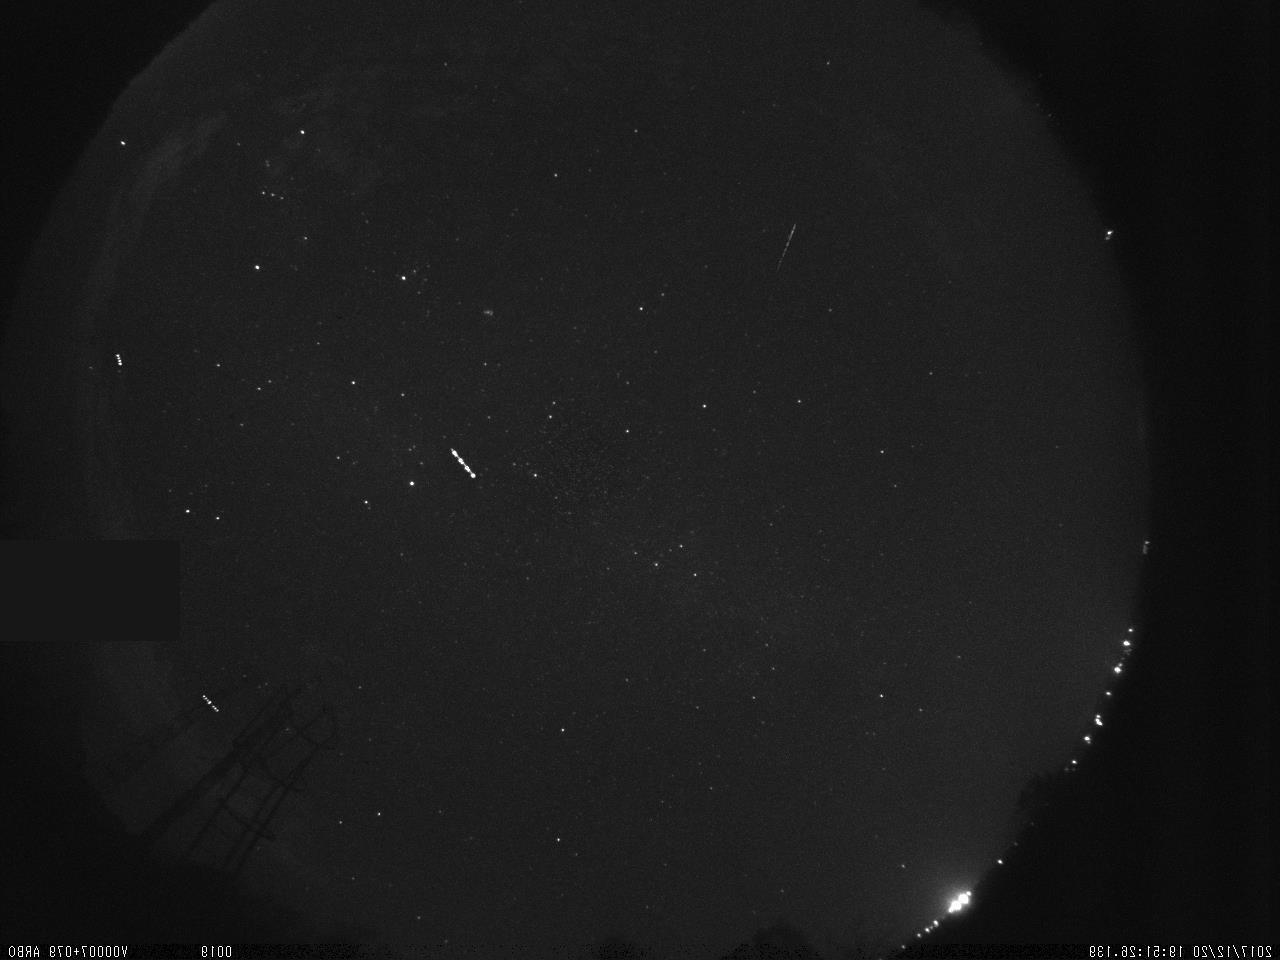meteor: (769, 214, 802, 276)
satelite: (442, 447, 477, 485), (199, 689, 224, 721), (109, 345, 128, 377)
